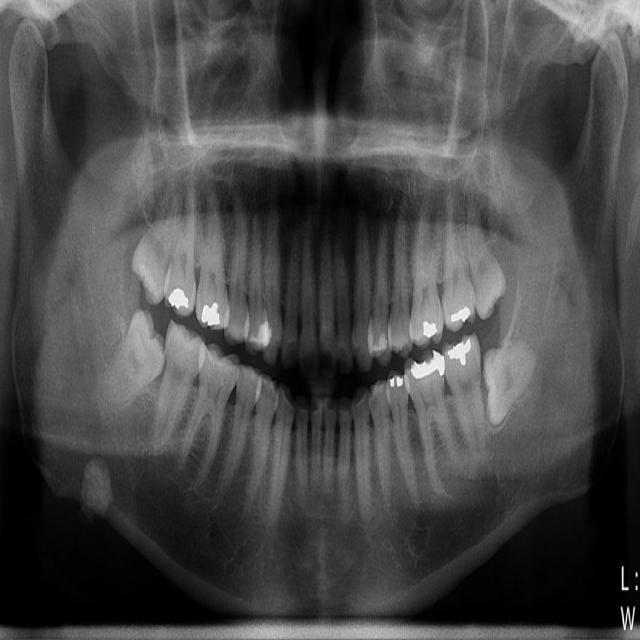Filling: (408, 351, 446, 377), (443, 336, 473, 367), (198, 298, 223, 327), (167, 286, 190, 313), (420, 316, 441, 342), (251, 321, 268, 348), (451, 306, 473, 326), (388, 373, 406, 392), (374, 335, 387, 349)
impacted tooth: (101, 307, 166, 425), (131, 171, 183, 303), (479, 335, 539, 427), (467, 195, 505, 320)
